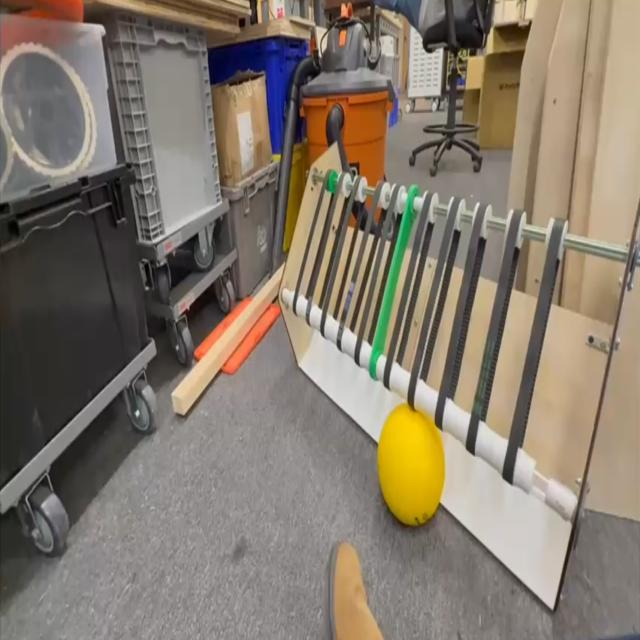Fuel: (378, 403, 445, 526)
